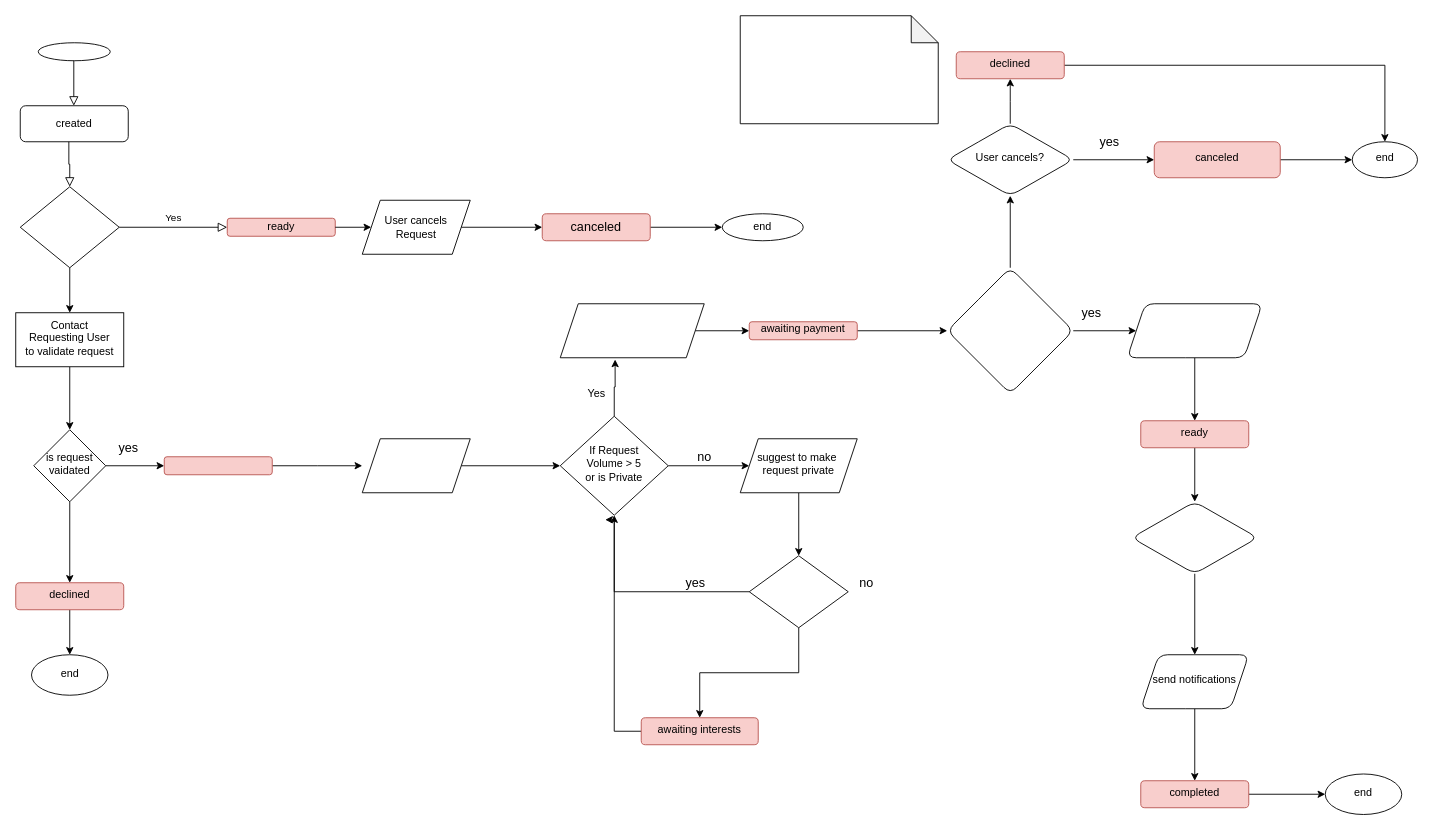
The diagram is 1434 pixels wide and 831 high, and some of its shapes have lost their labels. Each missing label, with the centre of its shape:
"Auto-declines if payment has not been made by the morning of trip day" goes at (x=838, y=69).
"confirmed" goes at (x=217, y=465).
"Get quote from Hosts" goes at (x=415, y=465).
"if matching trip exists" goes at (x=69, y=227).
"Is (n) days to trip day" goes at (x=1194, y=537).
"Is Request private" goes at (x=798, y=591).
"Notify Host and all request members" goes at (x=1194, y=330).
"Payment confirmed" goes at (x=1009, y=330).
"Share itinerary and payment link with request members" goes at (x=631, y=330).
"Start" goes at (x=73, y=51).
